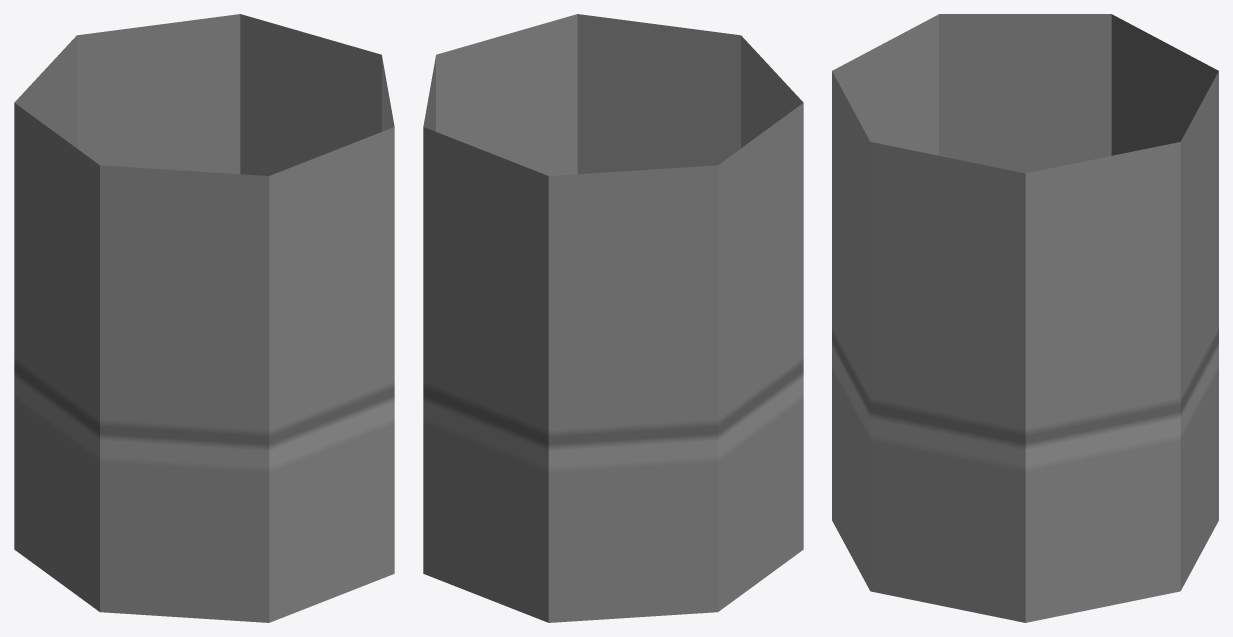
File: co_Street_Pillar_01.fbx
The picture shows the model from 3 angles, left to right: view 1: azimuth 30°, elevation 25°; view 2: azimuth 150°, elevation 25°; view 3: azimuth 270°, elevation 25°; orthographic projection.
Parts seen in each view (by area): view 1: Street_Pillar_01; view 2: Street_Pillar_01; view 3: Street_Pillar_01.
Part boxes in pixels (left/top/right/bottom): Street_Pillar_01: left=14, top=14, right=394, bottom=622; Street_Pillar_01: left=423, top=14, right=803, bottom=622; Street_Pillar_01: left=832, top=14, right=1218, bottom=622.
Bounding box in the file's own units: 190 × 250 × 195.
